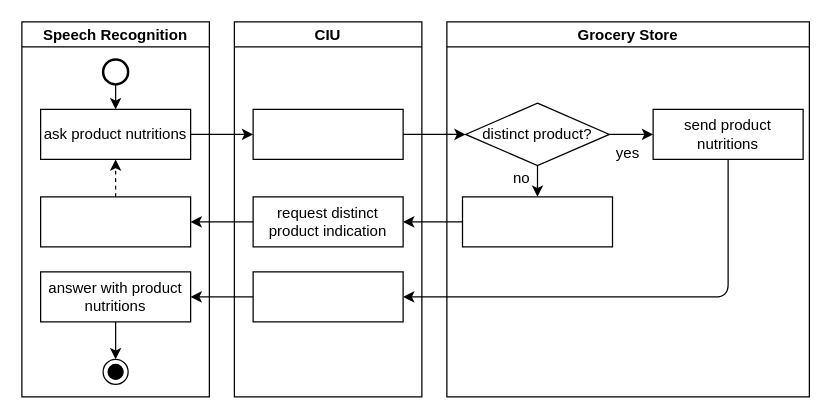
Image size: 831x419. Some labels were removed from this diagram. The centre of each missing label's shape, as x and y in pixels:
"answer with request" belongs at (115,221).
"send list of possible products" belongs at (536,221).
"transmit product nutritions" belongs at (327,296).
"transmit request" belongs at (327,133).
